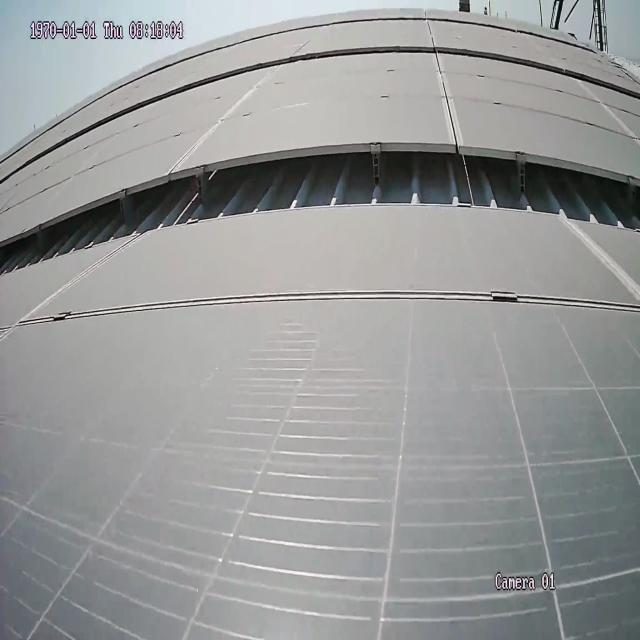interior panel: (23, 227, 640, 330), (172, 81, 259, 164), (433, 58, 463, 139)
outher panel: (1, 144, 640, 271)
